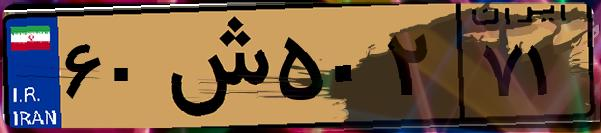0: (330, 28, 385, 110), (110, 28, 158, 98)
1: (525, 38, 570, 115)
2: (385, 28, 445, 110)
5: (270, 28, 330, 110)
6: (57, 26, 110, 100)
7: (475, 38, 525, 113)
ش: (158, 12, 270, 120)
